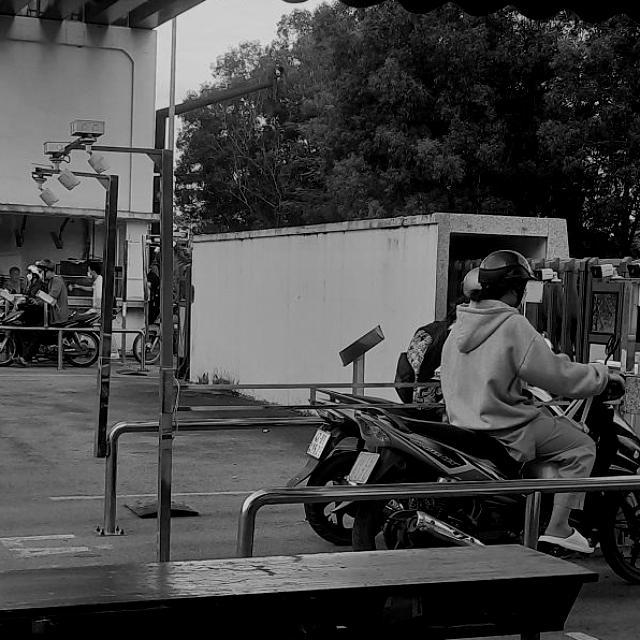Helmet: (481, 247, 535, 307), (34, 257, 54, 280)
